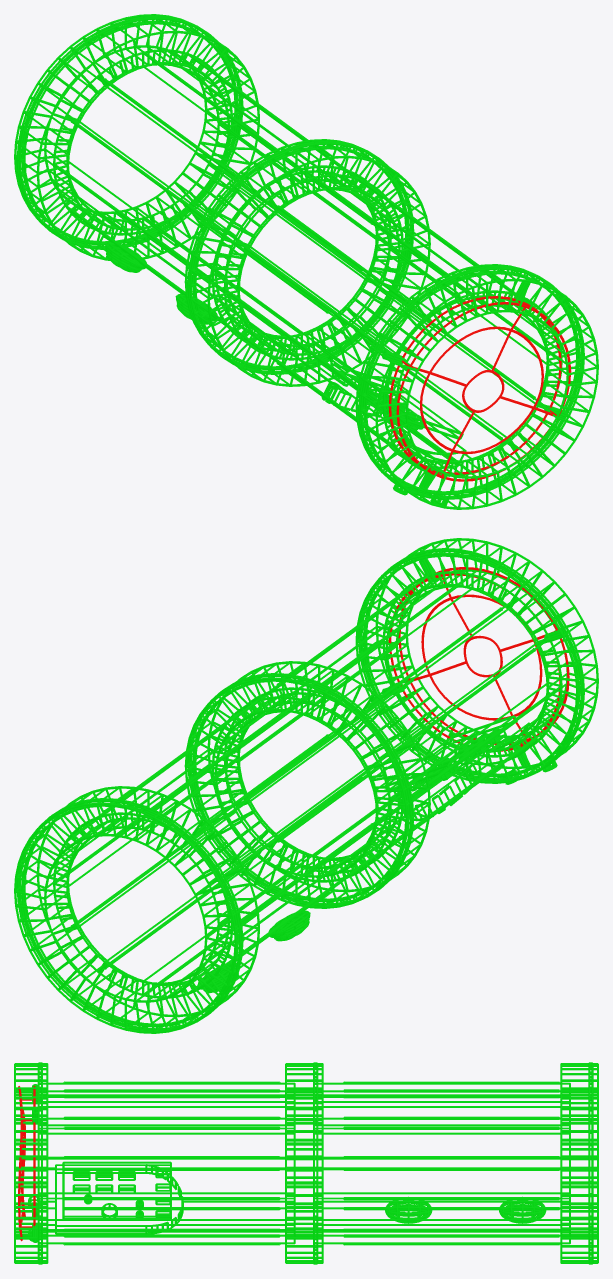
The model's file is power-amplifier-highlight-distorted-reflector.glb.
3 renders of one model, top to bottom at view 1: azimuth 30°, elevation 25°; view 2: azimuth 150°, elevation 25°; view 3: azimuth 270°, elevation 25°, orthographic. The views are drawn at different scales.
Visible parts, largest first — view 1: chassis technical wire, distorted-reflector technical wire, optical-coupling-ports technical wire, ethereal-vapour-generator technical wire; view 2: chassis technical wire, distorted-reflector technical wire, ethereal-vapour-generator technical wire, optical-coupling-ports technical wire; view 3: chassis technical wire, ethereal-vapour-generator technical wire, optical-coupling-ports technical wire, distorted-reflector technical wire.
Part boxes in pixels (x1,y1,x2,y2): chassis technical wire: [14, 14, 598, 509]; distorted-reflector technical wire: [388, 296, 571, 481]; optical-coupling-ports technical wire: [105, 242, 217, 324]; ethereal-vapour-generator technical wire: [333, 372, 446, 505]; chassis technical wire: [14, 538, 598, 1033]; distorted-reflector technical wire: [388, 567, 569, 751]; ethereal-vapour-generator technical wire: [393, 728, 557, 796]; optical-coupling-ports technical wire: [197, 910, 310, 993]; chassis technical wire: [14, 1062, 598, 1264]; ethereal-vapour-generator technical wire: [28, 1170, 169, 1241]; optical-coupling-ports technical wire: [385, 1196, 546, 1223]; distorted-reflector technical wire: [18, 1086, 35, 1241].
Size of the model in its own units: 0.9734 by 0.936 by 2.72.
